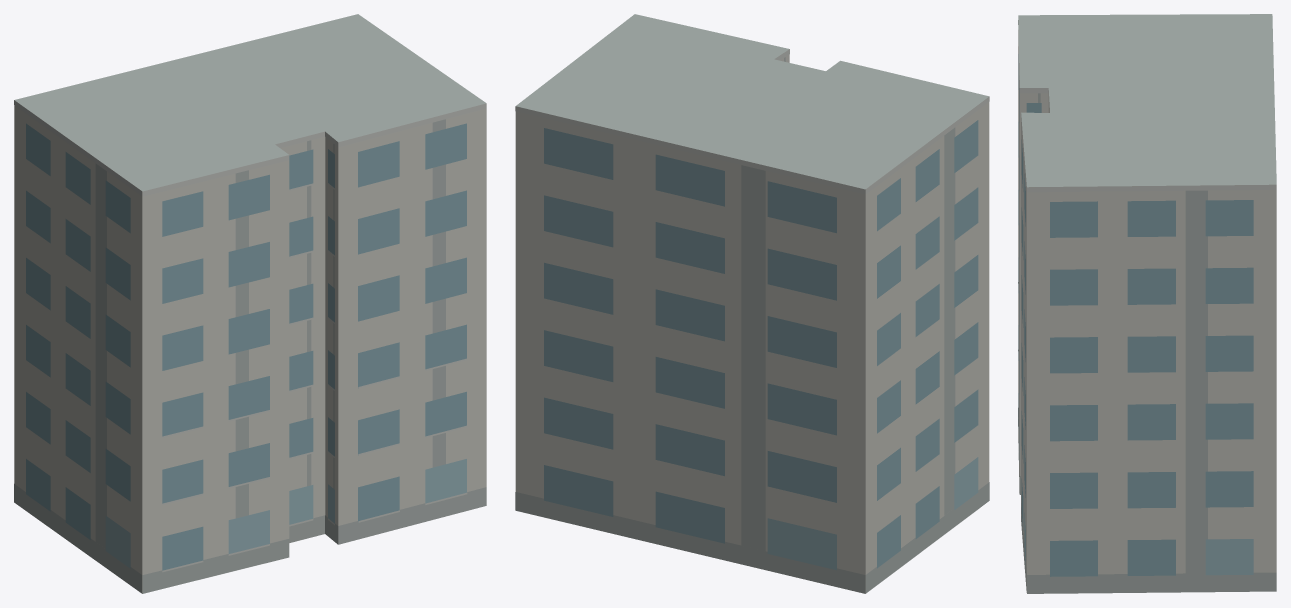
The model's file is survey-upis-32878207.glb.
3 views of the same model, side by side, from view 1: azimuth 30°, elevation 25°; view 2: azimuth 150°, elevation 25°; view 3: azimuth 270°, elevation 25° (orthographic).
Parts seen in each view (by area): view 1: survey-upis-32878207.tmp; view 2: survey-upis-32878207.tmp; view 3: survey-upis-32878207.tmp.
Part boxes in pixels (box(x1,y1,x2,y2)): survey-upis-32878207.tmp: box(14, 14, 486, 593); survey-upis-32878207.tmp: box(515, 14, 989, 593); survey-upis-32878207.tmp: box(1018, 14, 1276, 593).
Size of the model in its own units: 17.45 by 19.1 by 11.02.
